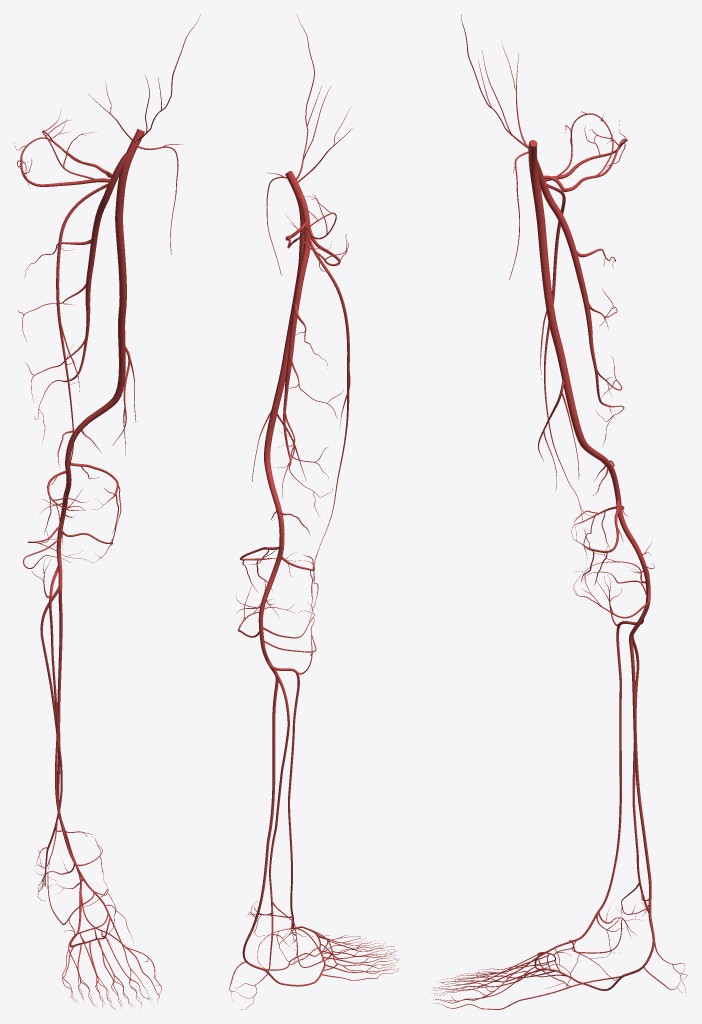
Rendered from aligned-lower-limb-arterial-01.glb.
The picture shows the model from 3 angles, left to right: view 1: azimuth 30°, elevation 25°; view 2: azimuth 150°, elevation 25°; view 3: azimuth 270°, elevation 25°; orthographic projection. The views are drawn at different scales.
Parts seen in each view (by area): view 1: O3D_a258f6feb8e006, O3D_1bb9a576ab52ba, O3D_6a794fed979ecc, O3D_f11219710ea6c7, O3D_d56538b2397e49, O3D_c8c863fd9634d8, O3D_e0a6895510d632, O3D_2e44a957ea043f, O3D_c84176dc8af38f; view 2: O3D_a258f6feb8e006, O3D_1bb9a576ab52ba, O3D_f11219710ea6c7, O3D_d56538b2397e49, O3D_6a794fed979ecc, O3D_e0a6895510d632, O3D_c8c863fd9634d8, O3D_c84176dc8af38f, O3D_2e44a957ea043f, O3D_fffbabbec72d23; view 3: O3D_a258f6feb8e006, O3D_1bb9a576ab52ba, O3D_f11219710ea6c7, O3D_d56538b2397e49, O3D_6a794fed979ecc, O3D_c8c863fd9634d8, O3D_2e44a957ea043f, O3D_e0a6895510d632.
Boxes of the visible parts, x1,y1,x2,y2 form: O3D_a258f6feb8e006: [87, 129, 144, 421]; O3D_1bb9a576ab52ba: [73, 152, 127, 379]; O3D_6a794fed979ecc: [56, 183, 108, 508]; O3D_f11219710ea6c7: [57, 562, 81, 888]; O3D_d56538b2397e49: [56, 417, 100, 562]; O3D_c8c863fd9634d8: [49, 565, 73, 860]; O3D_e0a6895510d632: [40, 586, 62, 884]; O3D_2e44a957ea043f: [62, 918, 161, 1007]; O3D_c84176dc8af38f: [18, 239, 91, 442]; O3D_a258f6feb8e006: [264, 171, 304, 495]; O3D_1bb9a576ab52ba: [283, 194, 310, 456]; O3D_f11219710ea6c7: [242, 658, 278, 966]; O3D_d56538b2397e49: [258, 494, 310, 659]; O3D_6a794fed979ecc: [307, 232, 350, 568]; O3D_e0a6895510d632: [265, 674, 289, 976]; O3D_c8c863fd9634d8: [266, 661, 299, 915]; O3D_c84176dc8af38f: [274, 303, 343, 516]; O3D_2e44a957ea043f: [316, 933, 399, 973]; O3D_fffbabbec72d23: [296, 14, 331, 179]; O3D_a258f6feb8e006: [528, 140, 605, 461]; O3D_1bb9a576ab52ba: [537, 160, 603, 404]; O3D_f11219710ea6c7: [629, 616, 654, 972]; O3D_d56538b2397e49: [593, 457, 650, 617]; O3D_6a794fed979ecc: [540, 183, 592, 521]; O3D_c8c863fd9634d8: [599, 619, 643, 909]; O3D_2e44a957ea043f: [433, 954, 554, 1003]; O3D_e0a6895510d632: [632, 635, 659, 955].
Bounding box in the file's own units: 0.1339 × 0.9937 × 0.2281.
